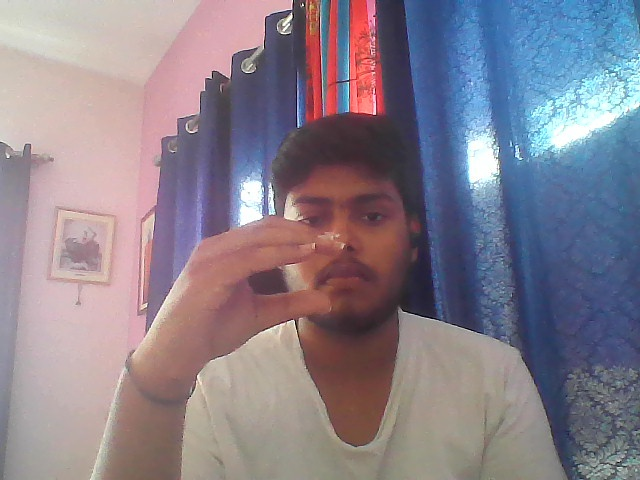No: (151, 212, 350, 369)
